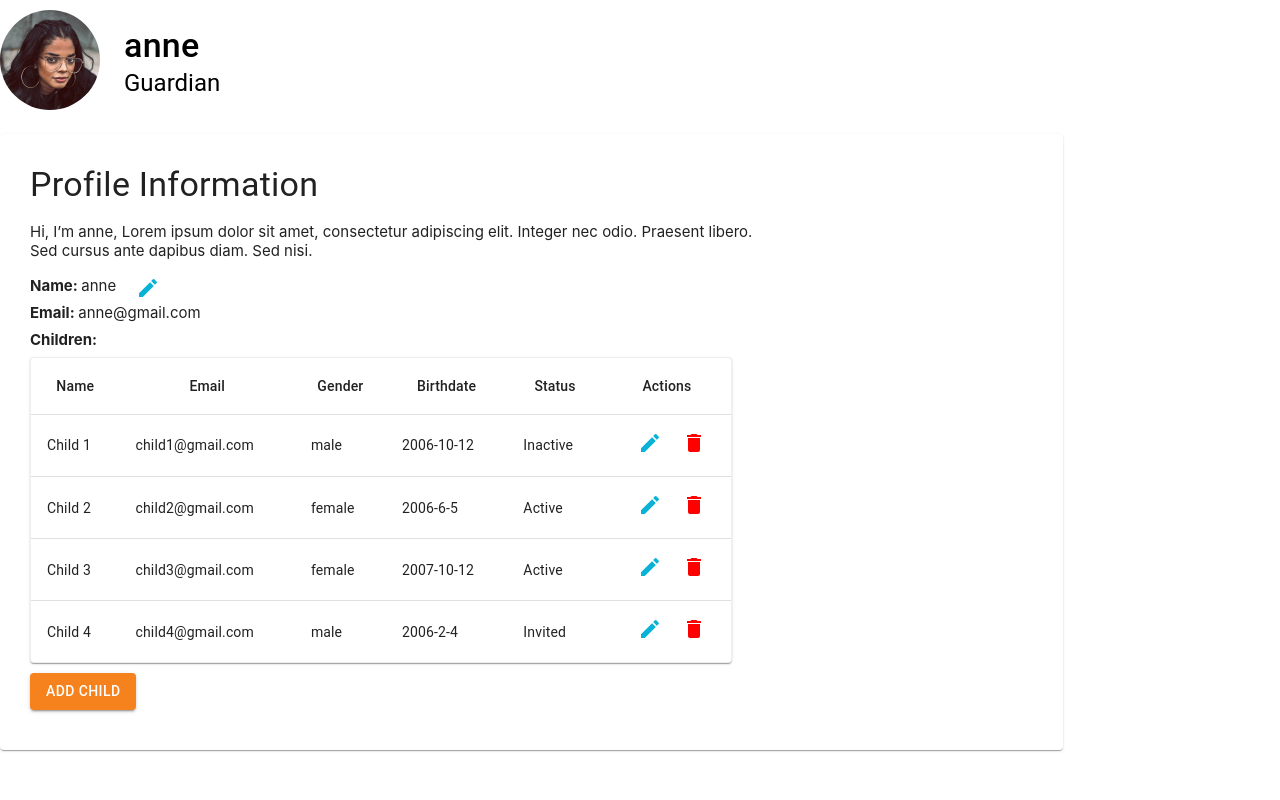
Test case: Render guardian profile › Edit modal opens onclick of edit button
Click the icon with test id "edit_icon1".
click(650, 505)  # box [638,493,662,517]
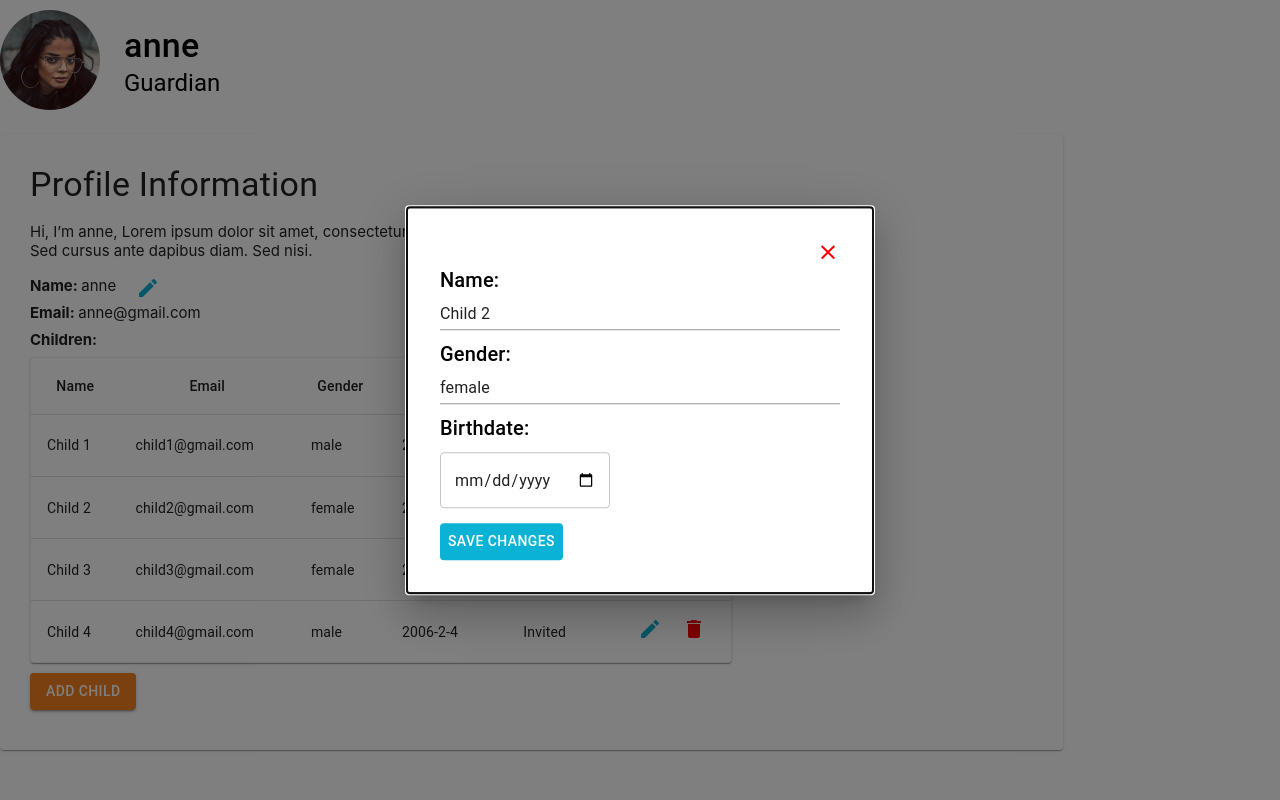
Now the button "Save Changes" is shown, box [440,523,563,560]
